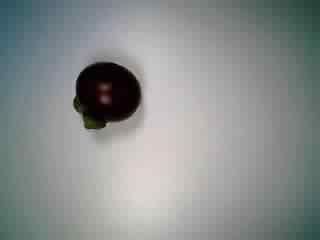mangosteen: (66, 59, 147, 136)
